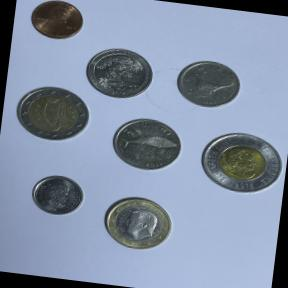1 Euro-B: (97, 190, 179, 258)
2 Euro-B: (7, 79, 96, 147)
Canada-10cent-B: (25, 168, 90, 225)
Canada-2Dollar-B: (192, 123, 288, 203)
Croatia-2Kune-B: (105, 112, 187, 178)
US-1cent-B: (27, 0, 90, 46)
US-25cent-B: (78, 42, 158, 104)
